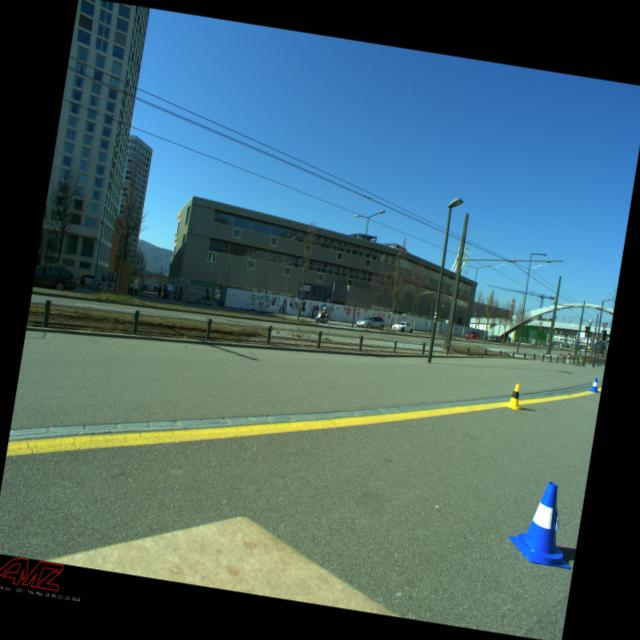blue_cone: (506, 477, 584, 569), (587, 377, 602, 394)
yellow_cone: (504, 382, 527, 412)
